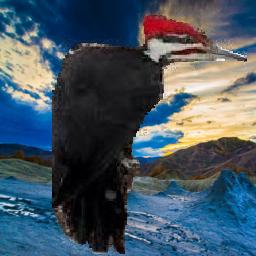Woodpecker: (53, 14, 248, 255)
